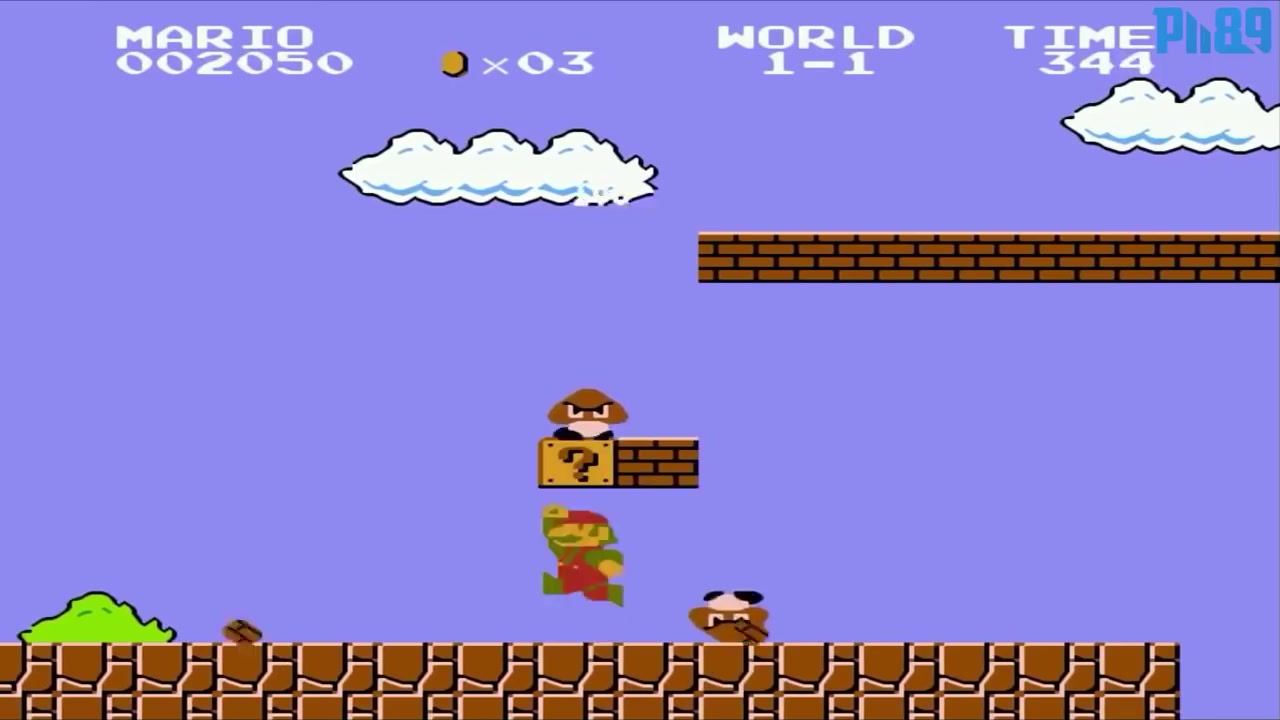mario: (534, 496, 634, 616)
